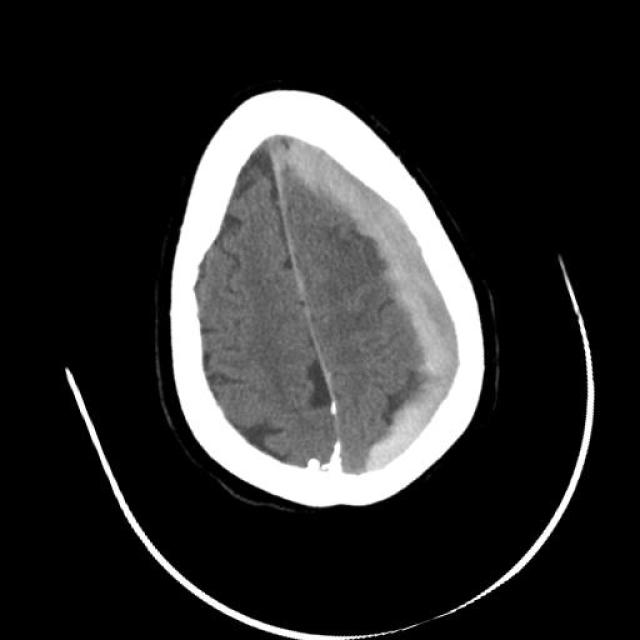Subdural: (238, 79, 533, 496)
